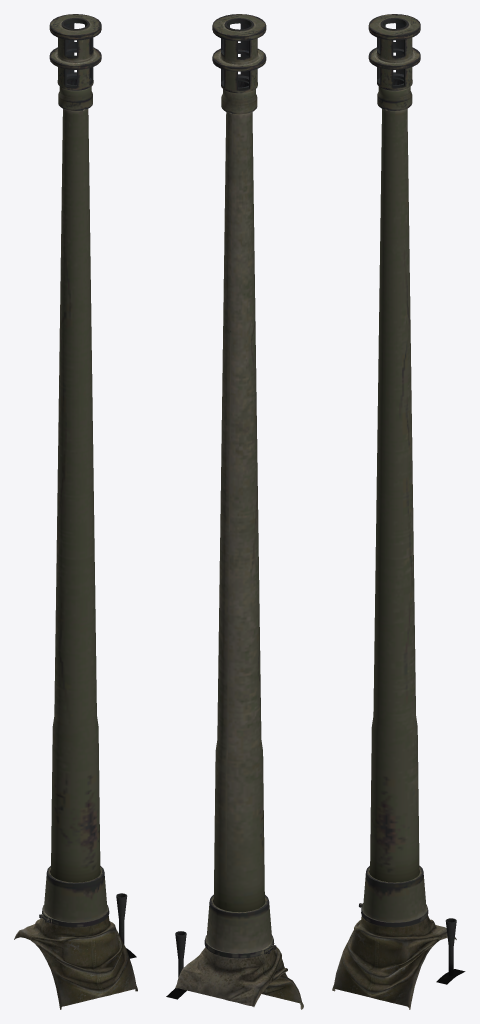
File: Gun_01.glb
The picture shows the model from 3 angles, left to right: view 1: azimuth 30°, elevation 25°; view 2: azimuth 150°, elevation 25°; view 3: azimuth 330°, elevation 25°; orthographic projection. The views are drawn at different scales.
Visible parts, largest first — view 1: set_0_group_0; view 2: set_0_group_0; view 3: set_0_group_0.
Boxes of the visible parts, x1,y1,x2,y2 form: set_0_group_0: (14,14,137,1009); set_0_group_0: (166,14,303,1009); set_0_group_0: (332,14,465,1009).
Bounding box in the file's own units: 0.5398 × 5.19 × 0.4908.
Materials: 1 (1 with a texture image).
